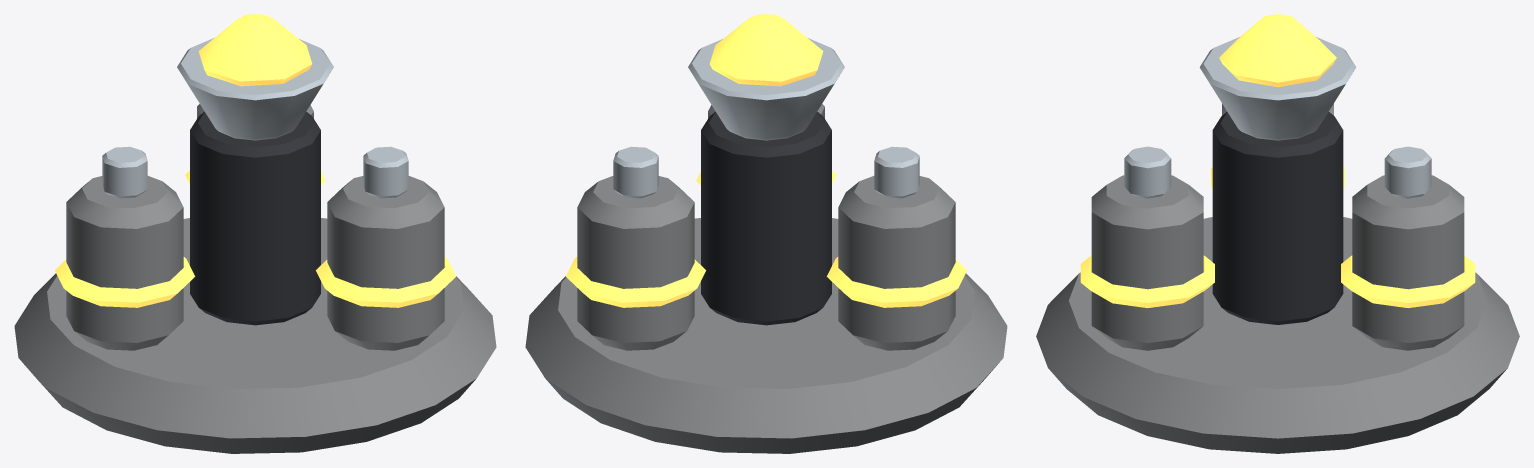
File: R4D_BurnTrap.glb
The picture shows the model from 3 angles, left to right: view 1: azimuth 30°, elevation 25°; view 2: azimuth 150°, elevation 25°; view 3: azimuth 270°, elevation 25°; orthographic projection.
Parts seen in each view (by area): view 1: R4D_BurnTrap_Body, R4D_BurnTrap_Flame; view 2: R4D_BurnTrap_Body, R4D_BurnTrap_Flame; view 3: R4D_BurnTrap_Body, R4D_BurnTrap_Flame.
Part boxes in pixels (bbox=[...]): R4D_BurnTrap_Body: bbox=[14, 38, 496, 453]; R4D_BurnTrap_Flame: bbox=[198, 14, 312, 86]; R4D_BurnTrap_Body: bbox=[525, 38, 1007, 453]; R4D_BurnTrap_Flame: bbox=[709, 14, 823, 86]; R4D_BurnTrap_Body: bbox=[1036, 37, 1519, 453]; R4D_BurnTrap_Flame: bbox=[1219, 14, 1336, 87].
Size of the model in its own units: 0.37 by 0.288 by 0.37.
